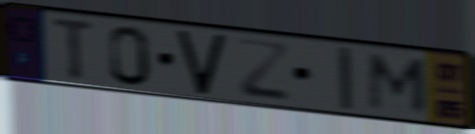0: (106, 23, 153, 88)
I: (335, 45, 356, 112)
M: (367, 50, 431, 115)
T: (50, 15, 97, 82)
V: (175, 29, 229, 97)
Z: (236, 35, 292, 104)
